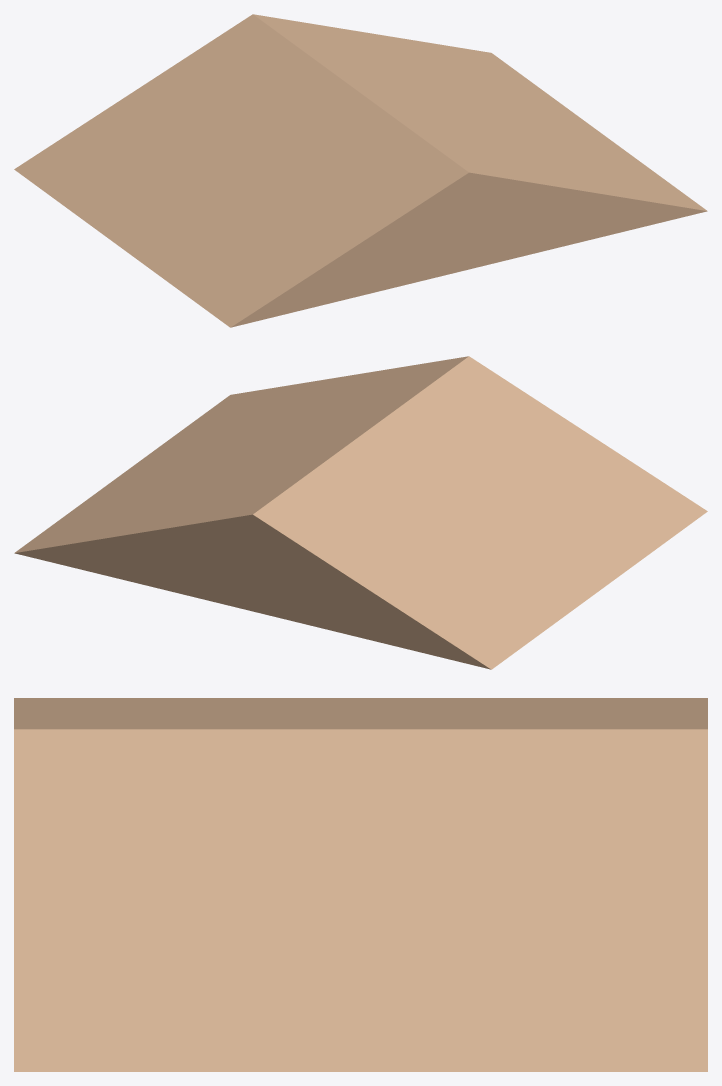
The model's file is gable_roof.glb.
3 renders of one model, top to bottom at view 1: azimuth 30°, elevation 25°; view 2: azimuth 150°, elevation 25°; view 3: azimuth 270°, elevation 25°, orthographic. The views are drawn at different scales.
Visible parts, largest first — view 1: woodDark; view 2: woodDark; view 3: woodDark.
Boxes of the visible parts, bbox=[...] form: woodDark: bbox=[14, 14, 707, 327]; woodDark: bbox=[14, 356, 707, 669]; woodDark: bbox=[14, 698, 707, 1071].
Bounding box in the file's own units: 2.11 × 0.4091 × 1.65.
